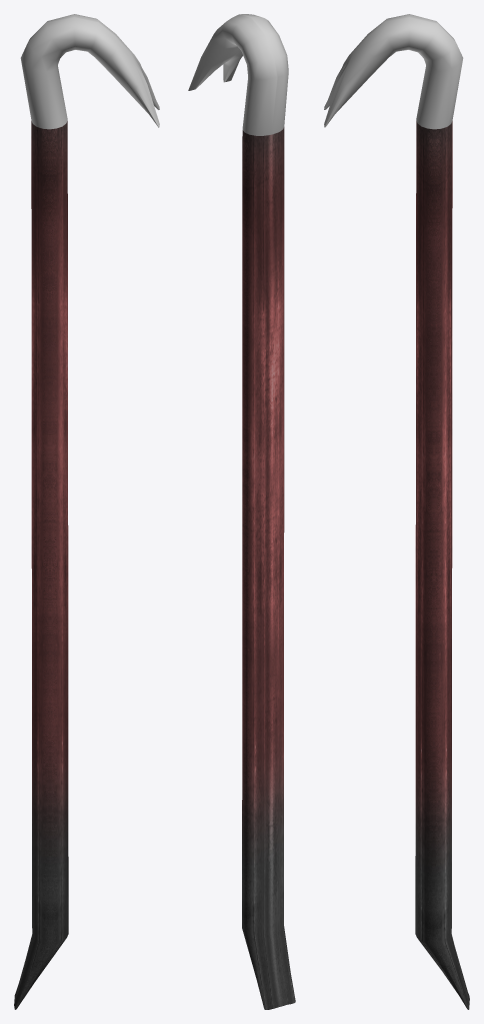
Rendered from brechstange.FBX.
The picture shows the model from 3 angles, left to right: view 1: azimuth 90°, elevation 25°; view 2: azimuth 210°, elevation 25°; view 3: azimuth 270°, elevation 25°; orthographic projection.
Parts seen in each view (by area): view 1: Group, polymsh2; view 2: Group, polymsh2; view 3: Group, polymsh2.
Boxes of the visible parts, box(x1,y1,x2,y2) form: Group: box(14, 121, 68, 1009); polymsh2: box(20, 14, 159, 129); Group: box(242, 127, 295, 1009); polymsh2: box(188, 14, 288, 135); Group: box(415, 121, 469, 1009); polymsh2: box(324, 14, 463, 129).
Bounding box in the file's own units: 0.8838 × 18.99 × 2.55.
